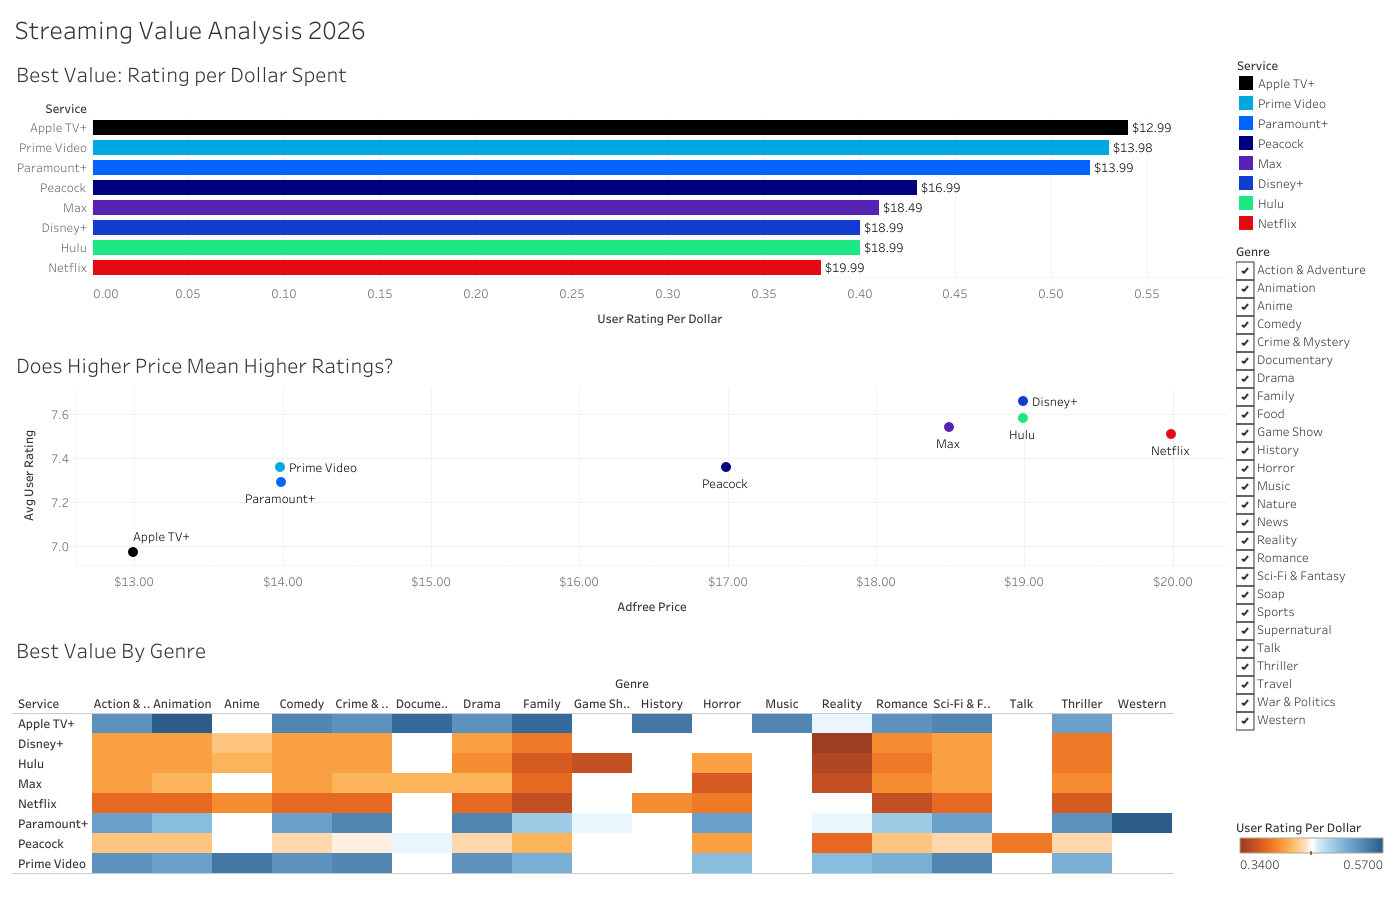

This screenshot's page, from the dashboard's own definition file:
{"tool":"tableau","page":{"name":"Streaming Value Analysis 2026","canvas":[1400,900],"ordinal":0},"visuals":[{"type":"title","box":[8,8,1384,42]},{"type":"worksheet","title":"User Rating Per Dollar","mark":"Automatic","rows":["service"],"cols":["user_rating_per_dollar"],"box":[8,50,1224,291]},{"type":"legend","title":"User Rating Per Dollar","param":"[federated.0ng0hze0mxd8z814rjwxb1582wg8].[none:service:nk]","box":[1232,50,160,186]},{"type":"filter","title":"By Genre","param":"[federated.0u47p7f19z7mvp134wth8014rtmk].[none:genre:nk]","box":[1232,236,160,545]},{"type":"worksheet","title":"Rating vs Price","mark":"Circle","rows":["avg_user_rating"],"cols":["adfree_price"],"box":[8,341,1224,285]},{"type":"worksheet","title":"By Genre","mark":"Automatic","rows":["service"],"cols":["genre"],"box":[8,626,1224,266]},{"type":"legend","title":"By Genre","param":"[federated.0u47p7f19z7mvp134wth8014rtmk].[sum:user_rating_per_dollar:qk]","box":[1232,781,160,65]}]}

Visuals, with their boxes in screenshot pixels (x1, y1, x2, y2), scaled from the page's 1400x900 canvas onto the 1399x899 screenshot:
title: 8/8/1391/50
"User Rating Per Dollar" worksheet: 8/50/1231/341
"User Rating Per Dollar" legend: 1231/50/1391/236
"By Genre" filter: 1231/236/1391/780
"Rating vs Price" worksheet (Circle marks): 8/341/1231/625
"By Genre" worksheet: 8/625/1231/891
"By Genre" legend: 1231/780/1391/845
